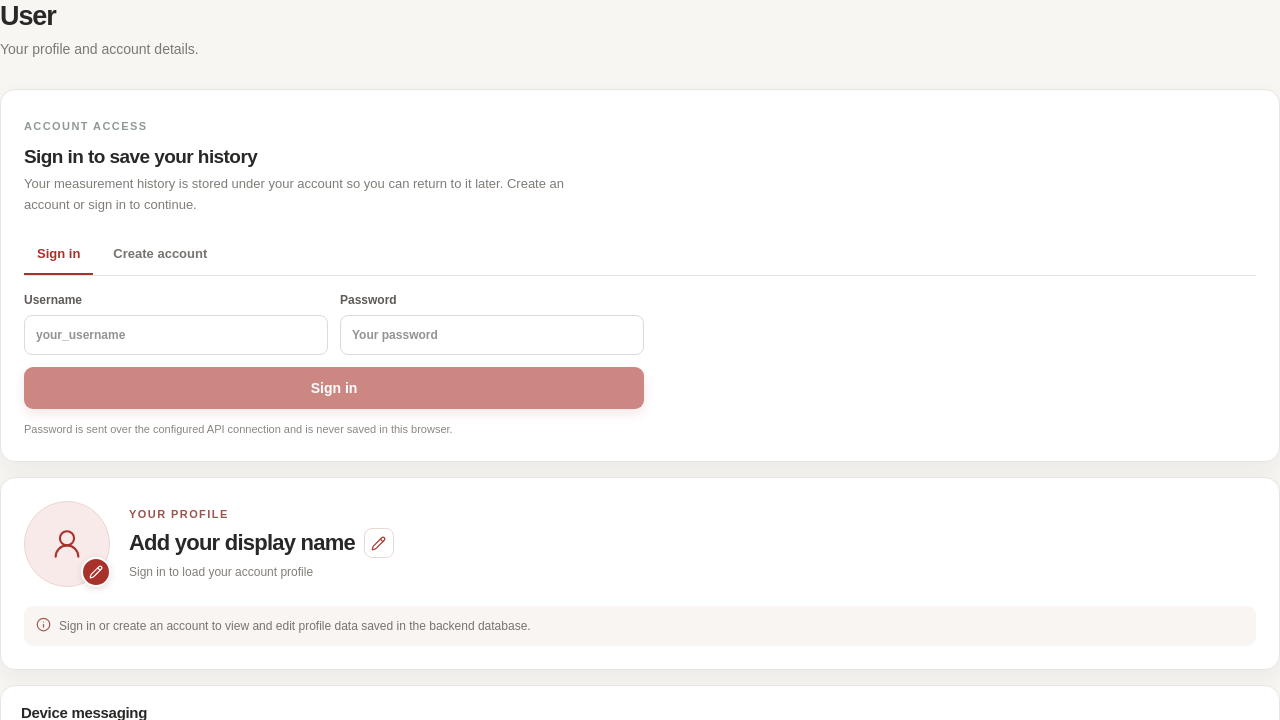
Test case: account sign-in UI › clears loading and keeps sign-in available when profile verification fails
The image size is (1280, 720).
In the field labelled "Username": (176, 335) x1=24 y1=315 x2=328 y2=355, type "mehul"
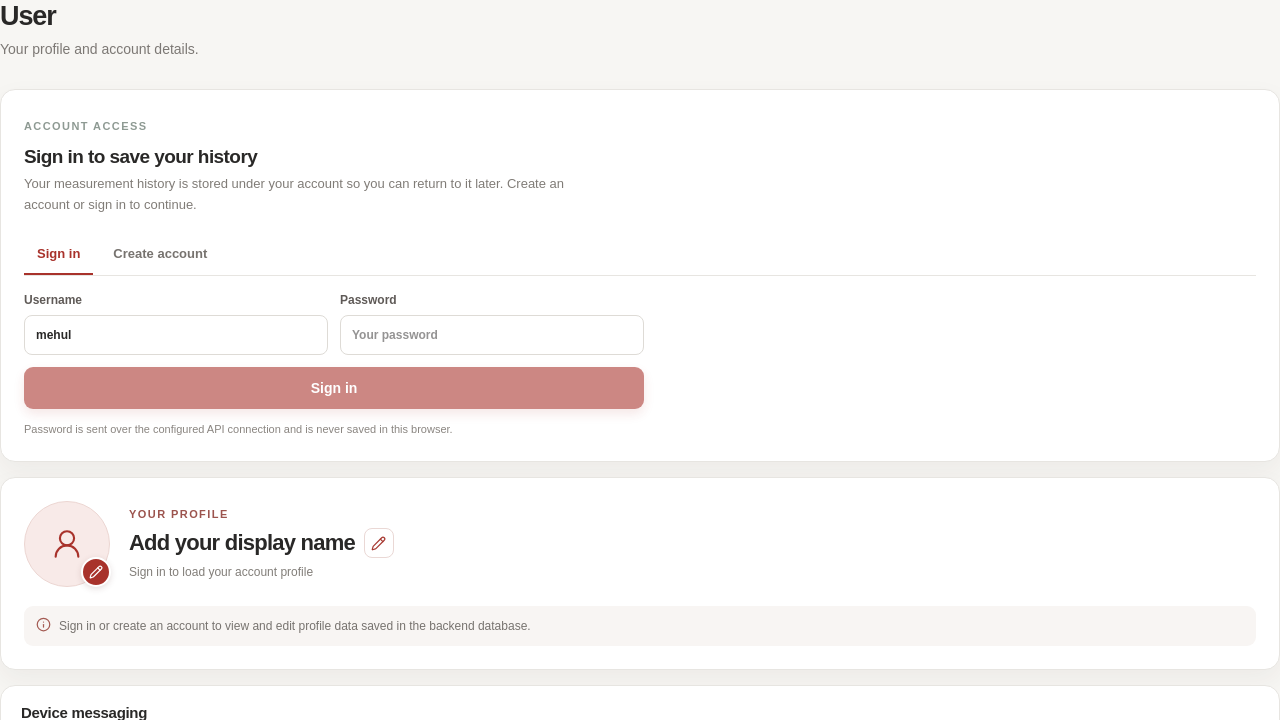
In the password field labelled "Password": (492, 335) x1=340 y1=315 x2=644 y2=355, type "correct horse battery staple"
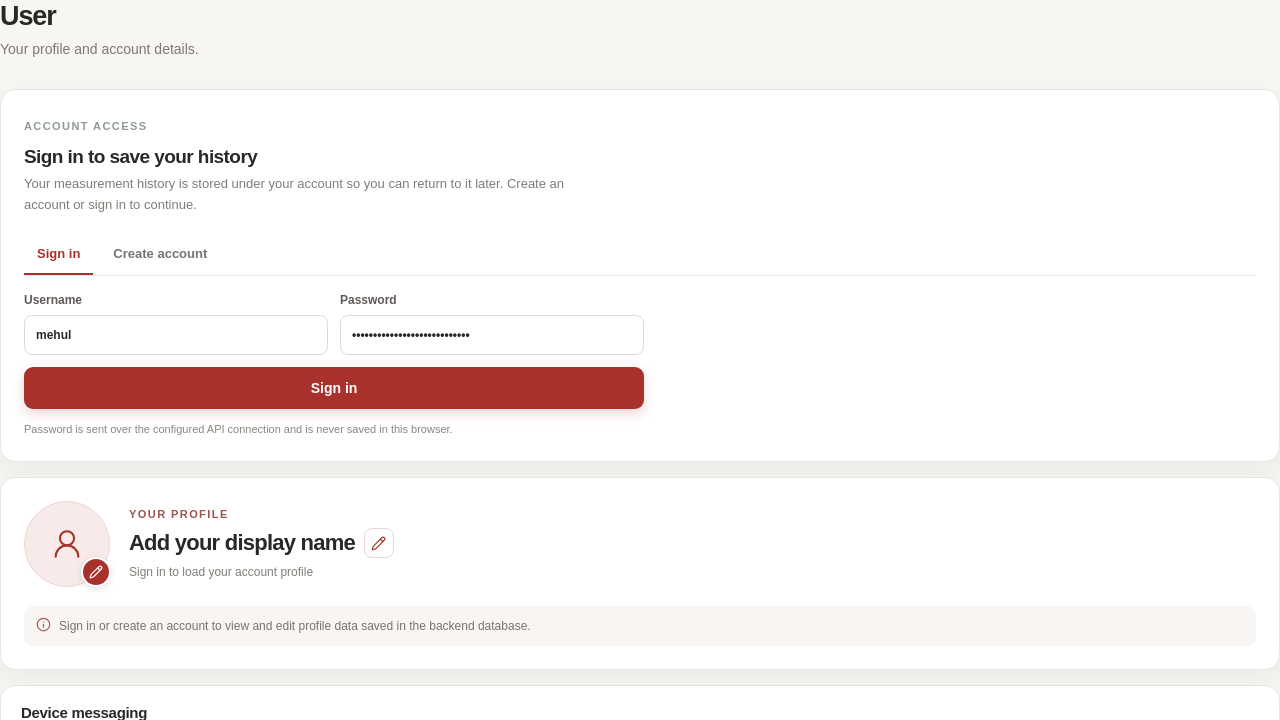
Click the button "Sign in" below "Username": (334, 388) x1=24 y1=367 x2=644 y2=409
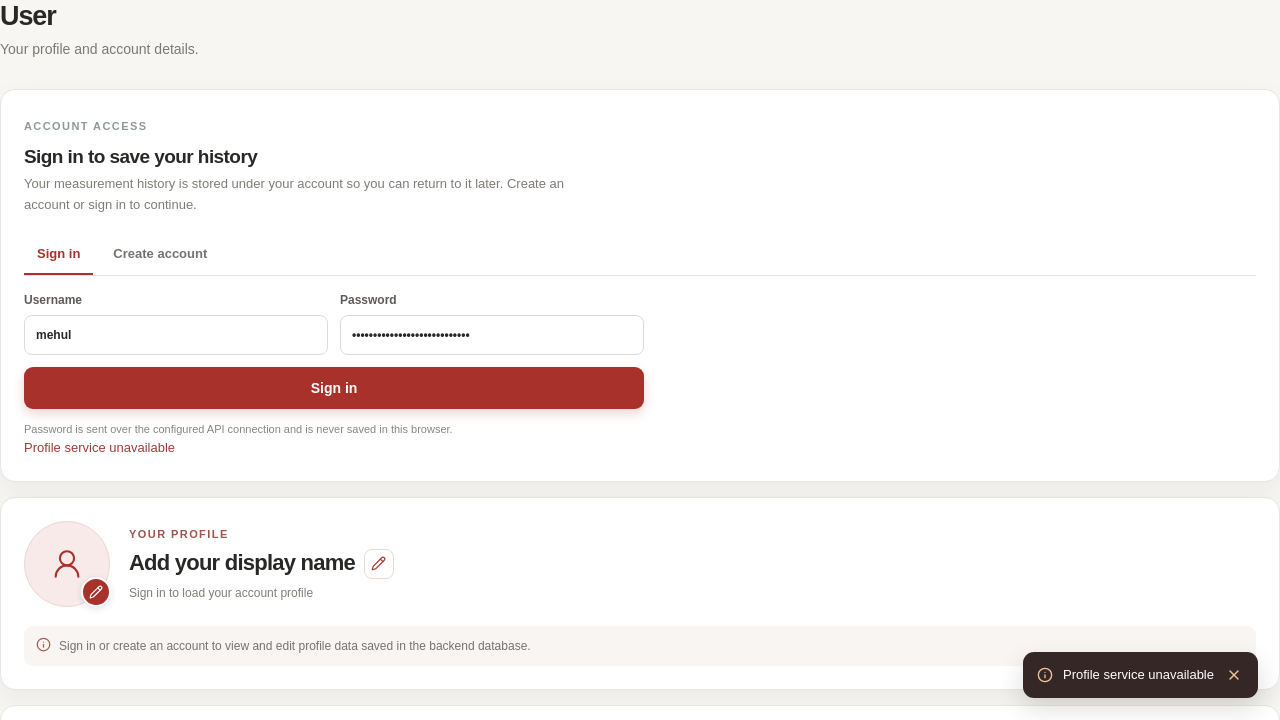
Check: the message "Profile service unavailable" below "Username" is shown, box x1=24 y1=440 x2=175 y2=455
